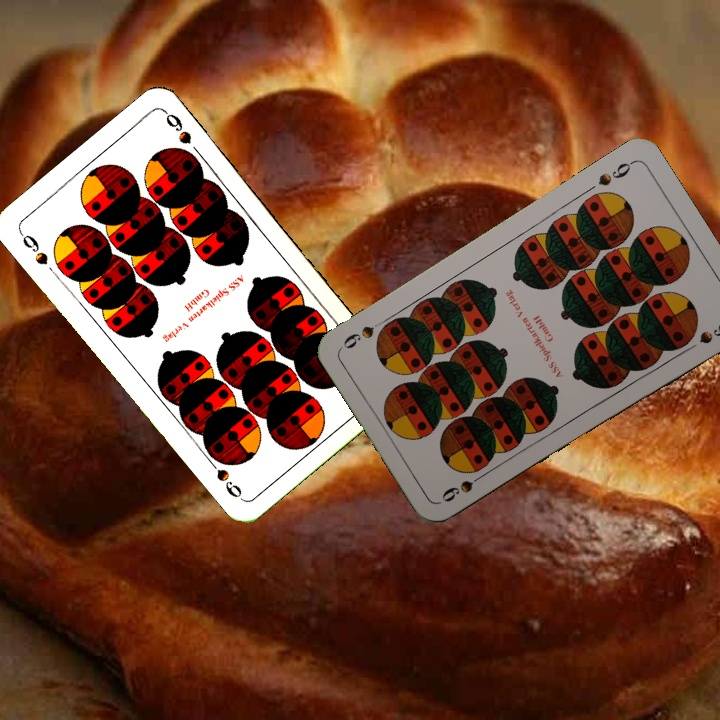S9: (437, 467, 491, 505), (15, 227, 51, 268), (594, 156, 637, 189)
